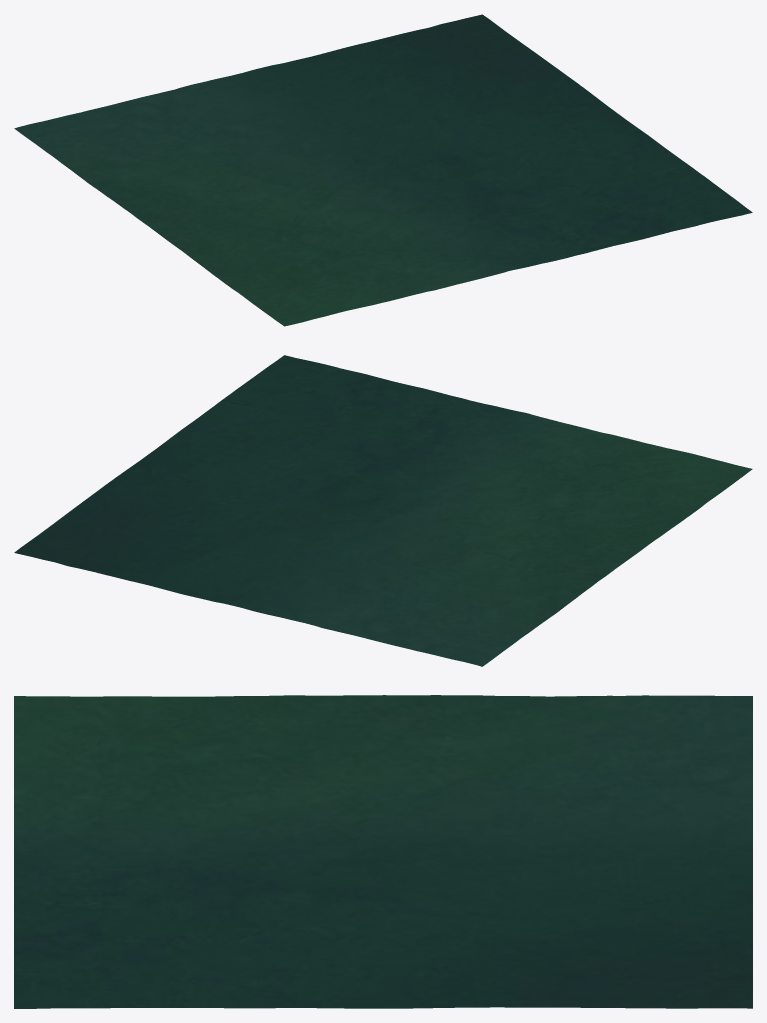
3 renders of one model, top to bottom at view 1: azimuth 30°, elevation 25°; view 2: azimuth 150°, elevation 25°; view 3: azimuth 270°, elevation 25°, orthographic. The views are drawn at different scales.
Bounding box in the file's own units: 209 × 0.9997 × 209.
2 materials, 2 textured.
